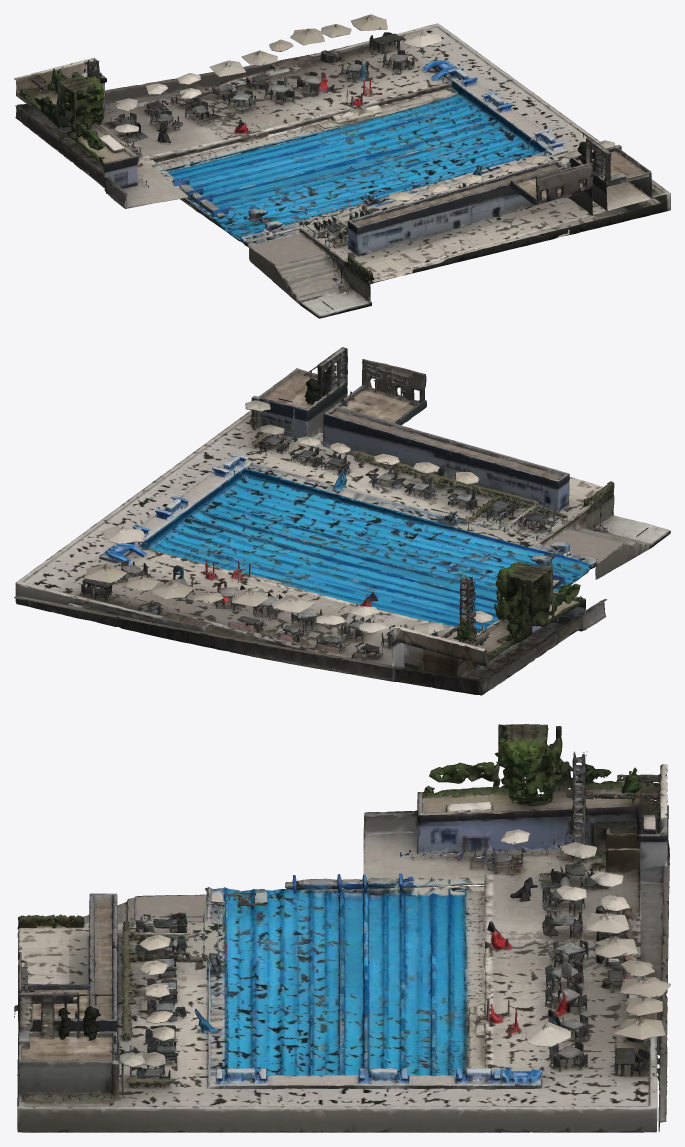
Rendered from city-club-5.glb.
The picture shows the model from 3 angles, top to bottom: view 1: azimuth 30°, elevation 25°; view 2: azimuth 150°, elevation 25°; view 3: azimuth 270°, elevation 25°; orthographic projection. The views are drawn at different scales.
Bounding box in the file's own units: 1 × 0.2853 × 0.9831.
Materials: 1 (1 with a texture image).
